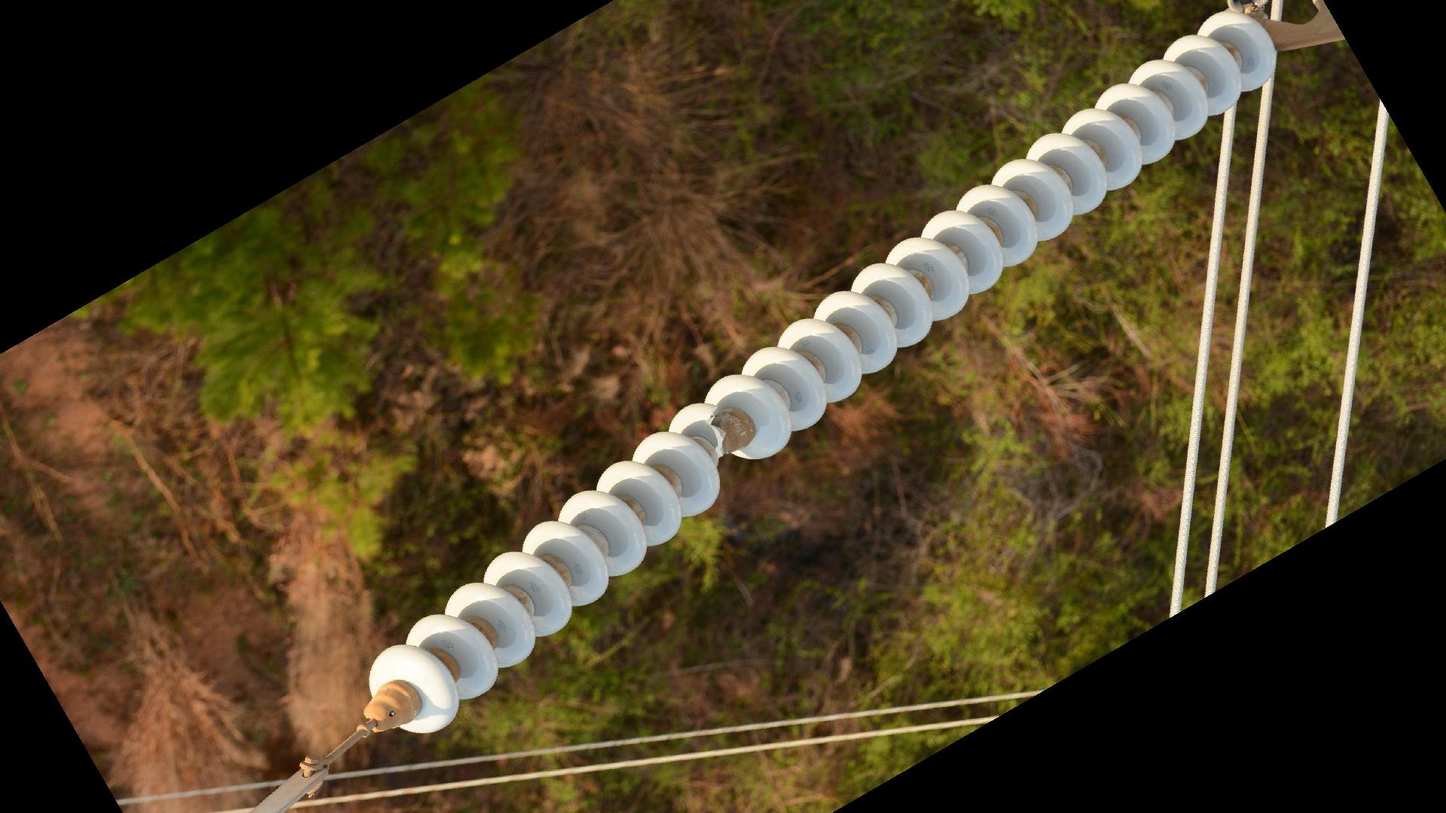insulator: (363, 9, 1286, 739)
insulator_breakage: (702, 403, 730, 462)
